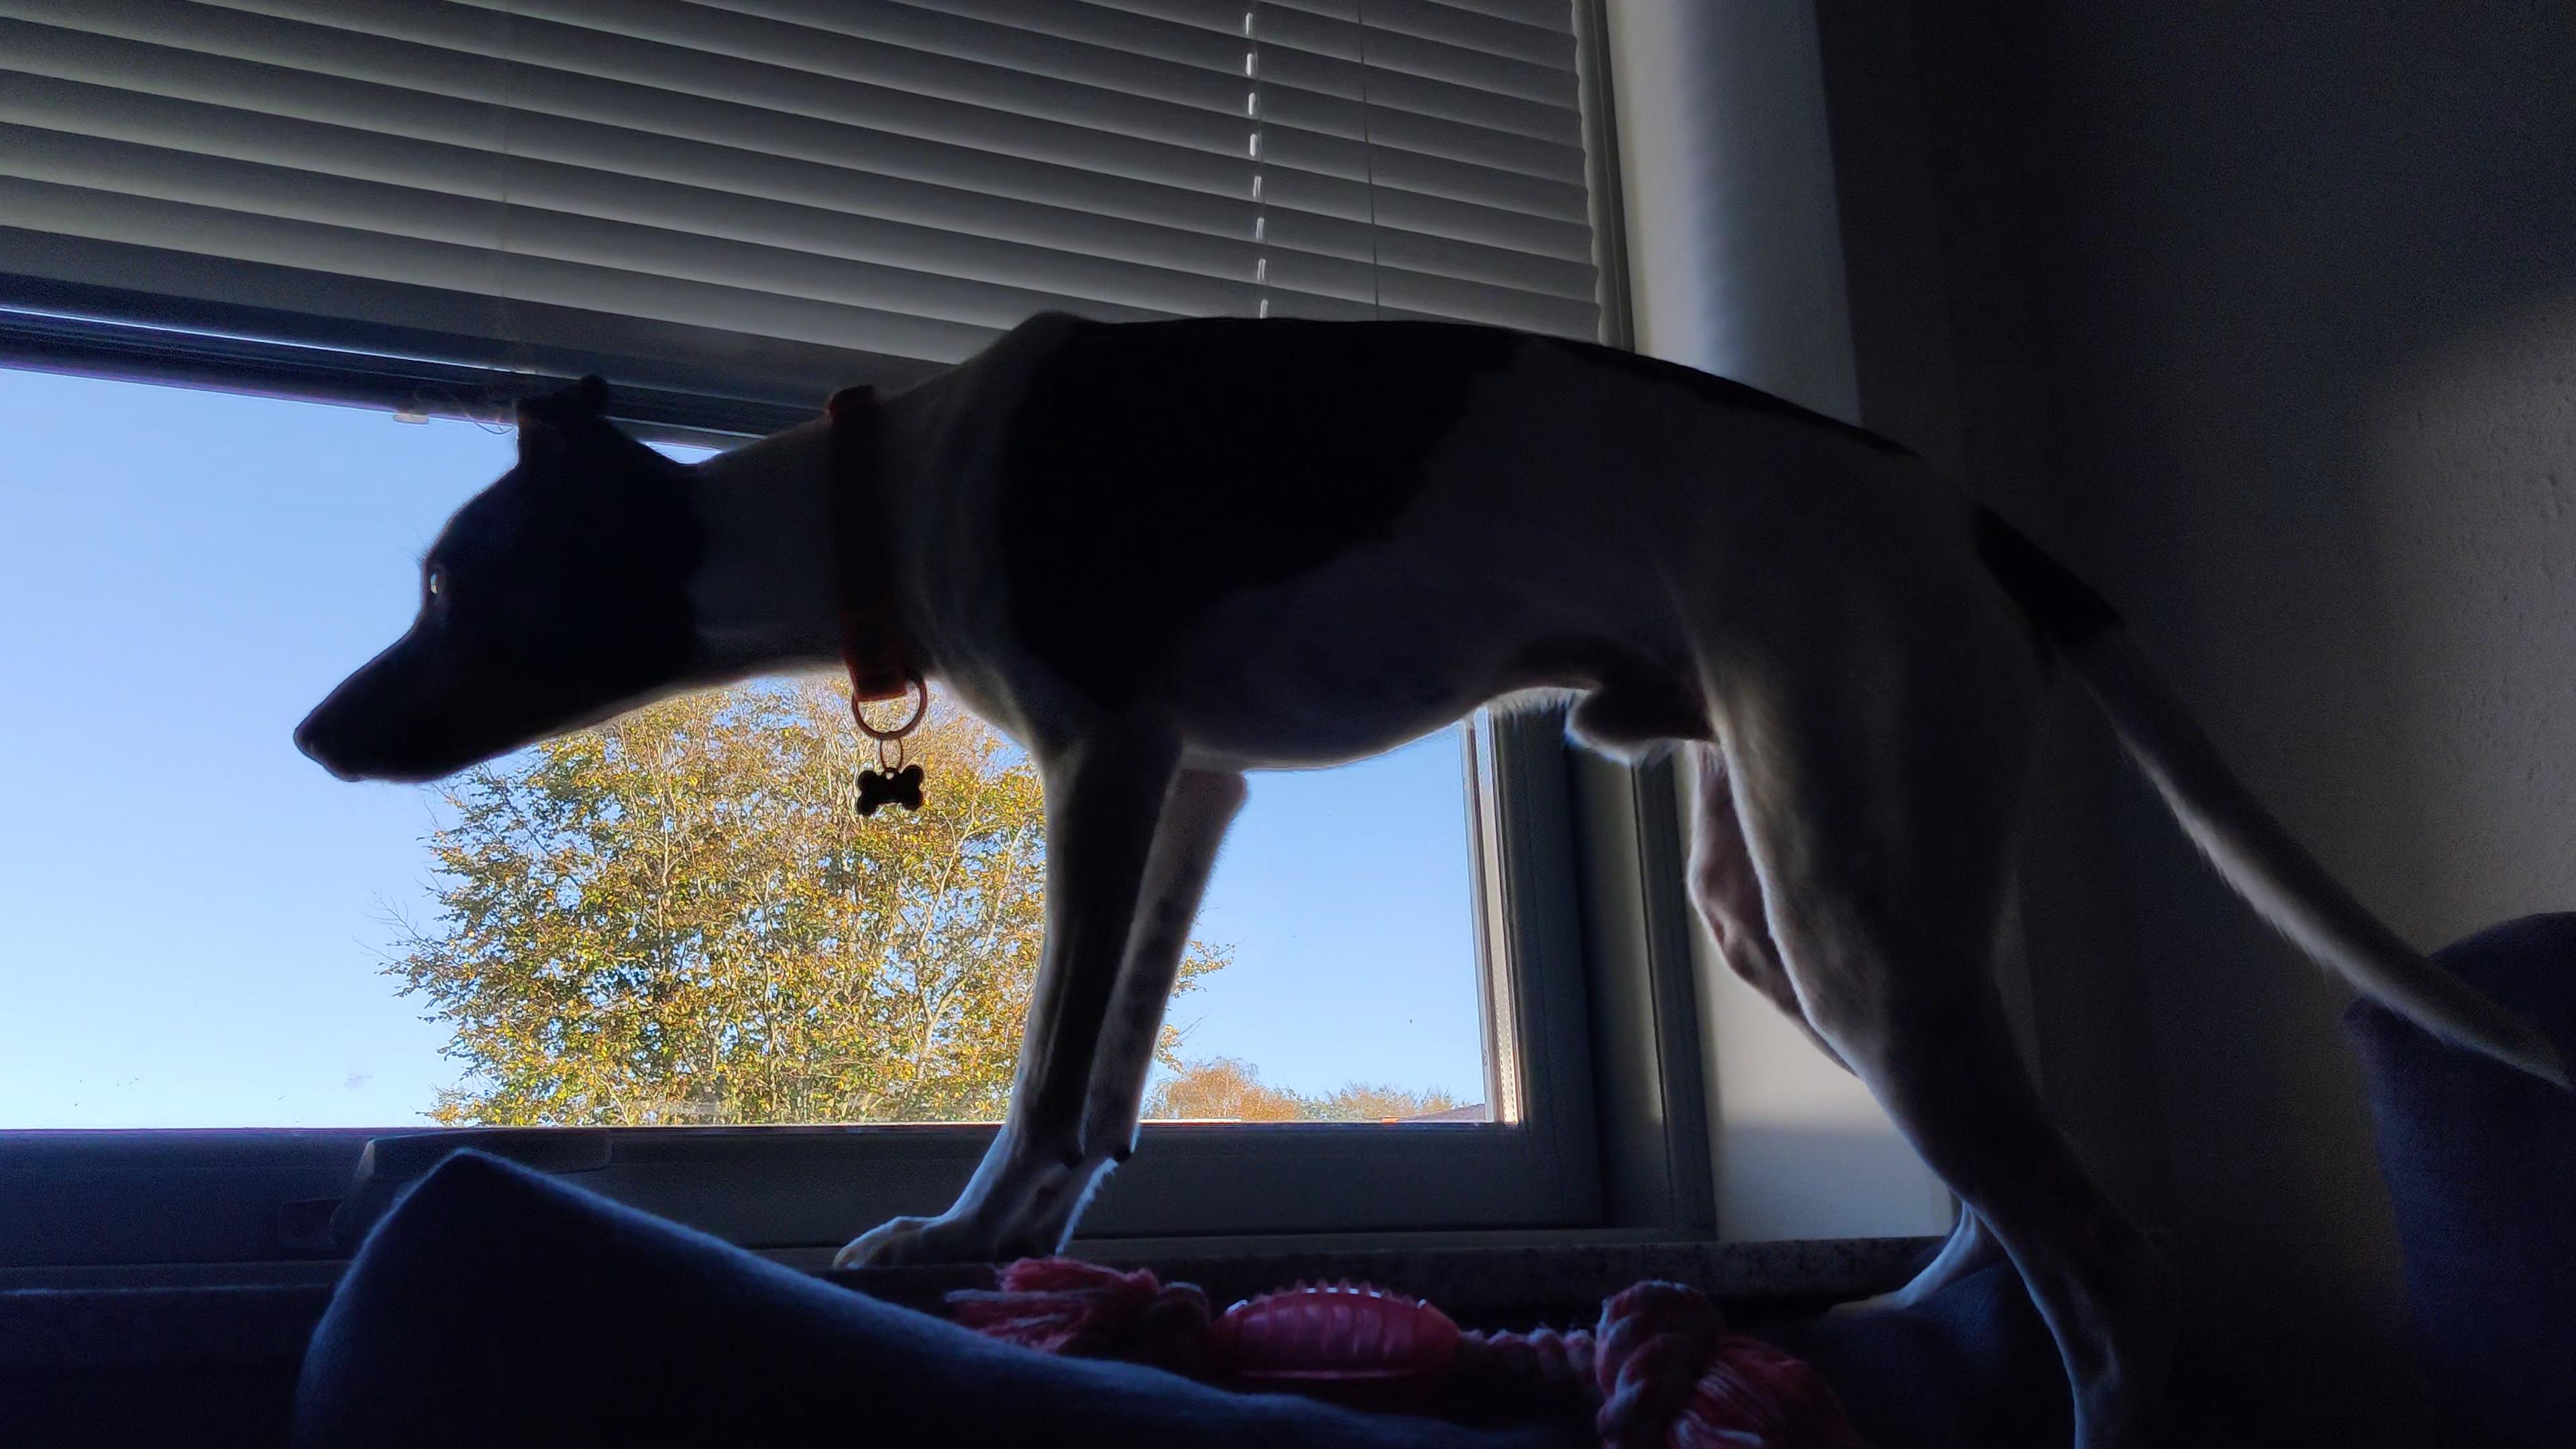Dog: (288, 299, 2576, 1449)
